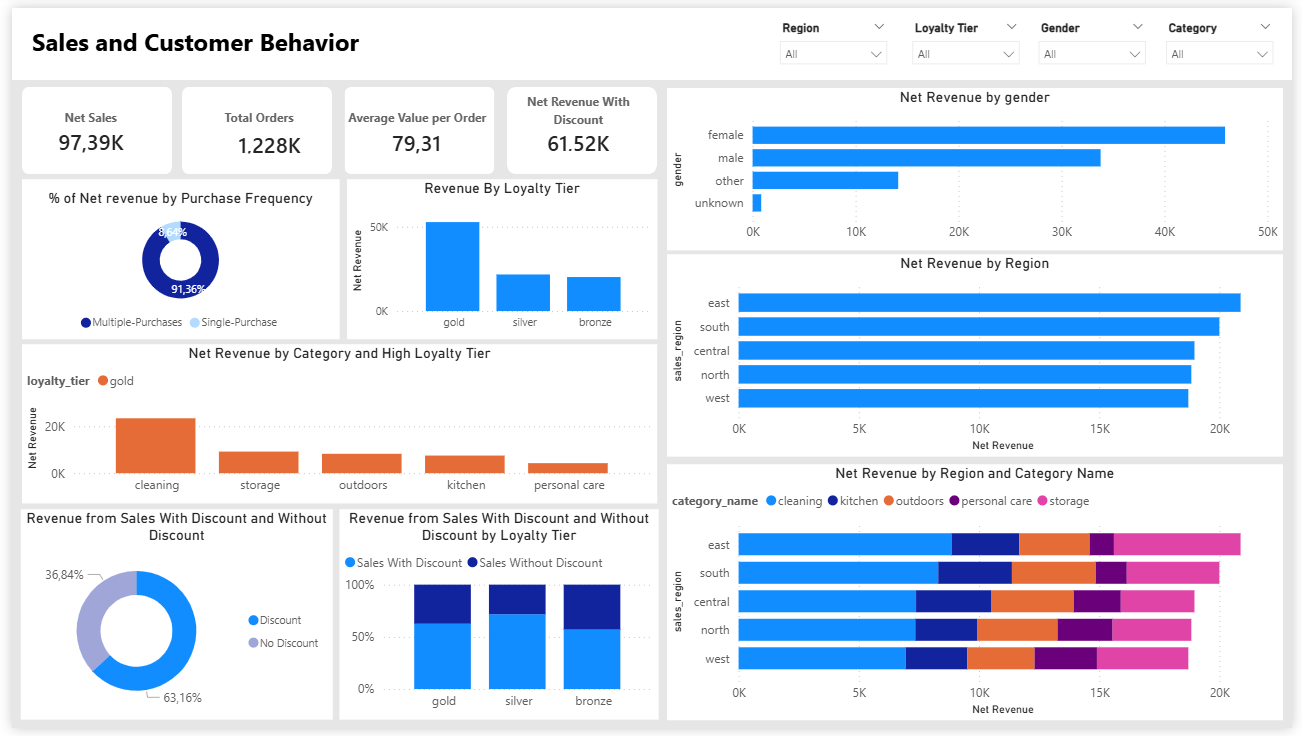

What the dashboard file says about the page in this screenshot:
{"tool":"powerbi","page":{"name":"Principal_Dashboard","canvas":[1280,720],"ordinal":0},"visuals":[{"type":"shape","box":[0,0,1280,72.3],"z":0},{"type":"shape","box":[494.5,78.8,150,87.5],"z":1000},{"type":"shape","box":[170.3,78.8,150,87.5],"z":2000},{"type":"shape","box":[10.3,78.8,150,87.5],"z":3000},{"type":"cardVisual","fields":{"Data":["Metrics.Total orders"]},"box":[183.5,107.5,150,55.5],"z":4000},{"type":"cardVisual","fields":{"Data":["Metrics.AVG. Order Value"]},"box":[351.8,102.3,110.5,59.5],"z":5000},{"type":"cardVisual","fields":{"Data":["Metrics.Revenue from Sales With Discount"]},"box":[506.8,104.8,138,55.5],"z":6000},{"type":"cardVisual","fields":{"Data":["Metrics.Net Revenue"]},"box":[17.9,102.9,137.8,59.1],"z":7000},{"type":"textbox","box":[14.5,12.7,365.5,50],"z":8000},{"type":"shape","box":[332,78.8,150,87.5],"z":9000},{"type":"textbox","box":[47.2,94.9,75.2,31.4],"z":10000},{"type":"textbox","box":[207.5,94.5,94.5,31.5],"z":11000},{"type":"cardVisual","fields":{"Data":["Metrics.AVG. Order Value"]},"box":[351.6,102.8,130,60],"z":12000},{"type":"textbox","box":[337.7,94.4,158.1,31.9],"z":13000},{"type":"textbox","box":[489.1,79.1,155.2,47.1],"z":14000},{"type":"donutChart","title":"Net revenue by Purchase Frequency","fields":{"Y":["Metrics.Revenue Multiple-Purchases Customer","Metrics.Revenue Single-Purchase Customers"]},"box":[10,170.8,317.5,160],"z":15000},{"type":"barChart","fields":{"Category":["modeling dim_customer.loyalty_tier","modeling dim_customer.gender"],"Y":["Metrics.Net Revenue"]},"box":[654.4,79.4,615.6,162.5],"z":16000},{"type":"columnChart","title":"Revenue By Loyalty Tier","fields":{"Category":["modeling dim_customer.loyalty_tier"],"Y":["Metrics.Net Revenue"]},"box":[335,170.8,310,160],"z":17000},{"type":"donutChart","title":"Revenue from Sales With Discount and  Without Discount","fields":{"Y":["Metrics.Revenue from Sales With Discount","Metrics.Revenue From Sales Without Discount"]},"box":[8.2,501.8,311.8,210],"z":18000},{"type":"hundredPercentStackedColumnChart","title":"Revenue from Sales With Discount and Without Discount by loyalty_tier","fields":{"Category":["modeling dim_customer.loyalty_tier"],"Y":["Metrics.Revenue from Sales With Discount","Metrics.Revenue From Sales Without Discount"]},"box":[327.3,501.8,319.1,210],"z":19000},{"type":"barChart","title":"Net Revenue by Region","fields":{"Category":["modeling dim_region.sales_region"],"Y":["Metrics.Net Revenue"]},"box":[654.4,245.6,615.6,202.5],"z":20000},{"type":"barChart","title":"Net Revenue by Region and Category Name","fields":{"Category":["modeling dim_region.sales_region"],"Series":["modeling dim_product.category_name"],"Y":["Metrics.Net Revenue"]},"box":[654.4,455.6,615.6,256.2],"z":21000},{"type":"clusteredColumnChart","title":"Net Revenue by Category and High Loyalty Tier","fields":{"Y":["Metrics.Net Revenue"],"Category":["modeling dim_product.category_name"],"Series":["modeling dim_customer.loyalty_tier"]},"box":[10,336.7,635,159.2],"z":22000},{"type":"slicer","fields":{"Values":["modeling dim_region.sales_region"]},"box":[757.5,6.9,127.7,57.7],"z":23000},{"type":"slicer","fields":{"Values":["modeling dim_customer.loyalty_tier"]},"box":[890.6,6.9,127.7,57.7],"z":24000},{"type":"slicer","fields":{"Values":["modeling dim_customer.gender"]},"box":[1016,6.9,127.7,57.7],"z":25000},{"type":"slicer","fields":{"Values":["modeling dim_product.category_name"]},"box":[1143.7,6.9,127.7,57.7],"z":26000}]}

Visuals, with their boxes in screenshot pixels (x1, y1, x2, y2), scaled from the page's 1280x720 canvas onto the 1302x736 screenshot:
shape: bbox=[0, 0, 1301, 74]
shape: bbox=[503, 81, 656, 170]
shape: bbox=[173, 81, 326, 170]
shape: bbox=[10, 81, 163, 170]
cardVisual - Metrics.Total orders: bbox=[187, 110, 339, 167]
cardVisual - Metrics.AVG. Order Value: bbox=[358, 105, 470, 165]
cardVisual - Metrics.Revenue from Sales With Discount: bbox=[516, 107, 656, 164]
cardVisual - Metrics.Net Revenue: bbox=[18, 105, 158, 166]
textbox: bbox=[15, 13, 387, 64]
shape: bbox=[338, 81, 490, 170]
textbox: bbox=[48, 97, 125, 129]
textbox: bbox=[211, 97, 307, 129]
cardVisual - Metrics.AVG. Order Value: bbox=[358, 105, 490, 166]
textbox: bbox=[344, 96, 504, 129]
textbox: bbox=[498, 81, 655, 129]
"Net revenue by Purchase Frequency" donutChart: bbox=[10, 175, 333, 338]
barChart - modeling dim_customer.loyalty_tier x modeling dim_customer.gender: bbox=[666, 81, 1292, 247]
"Revenue By Loyalty Tier" columnChart: bbox=[341, 175, 656, 338]
"Revenue from Sales With Discount and  Without Discount" donutChart: bbox=[8, 513, 326, 728]
"Revenue from Sales With Discount and Without Discount by loyalty_tier" hundredPercentStackedColumnChart: bbox=[333, 513, 658, 728]
"Net Revenue by Region" barChart: bbox=[666, 251, 1292, 458]
"Net Revenue by Region and Category Name" barChart: bbox=[666, 466, 1292, 728]
"Net Revenue by Category and High Loyalty Tier" clusteredColumnChart: bbox=[10, 344, 656, 507]
slicer - modeling dim_region.sales_region: bbox=[771, 7, 900, 66]
slicer - modeling dim_customer.loyalty_tier: bbox=[906, 7, 1036, 66]
slicer - modeling dim_customer.gender: bbox=[1033, 7, 1163, 66]
slicer - modeling dim_product.category_name: bbox=[1163, 7, 1293, 66]
